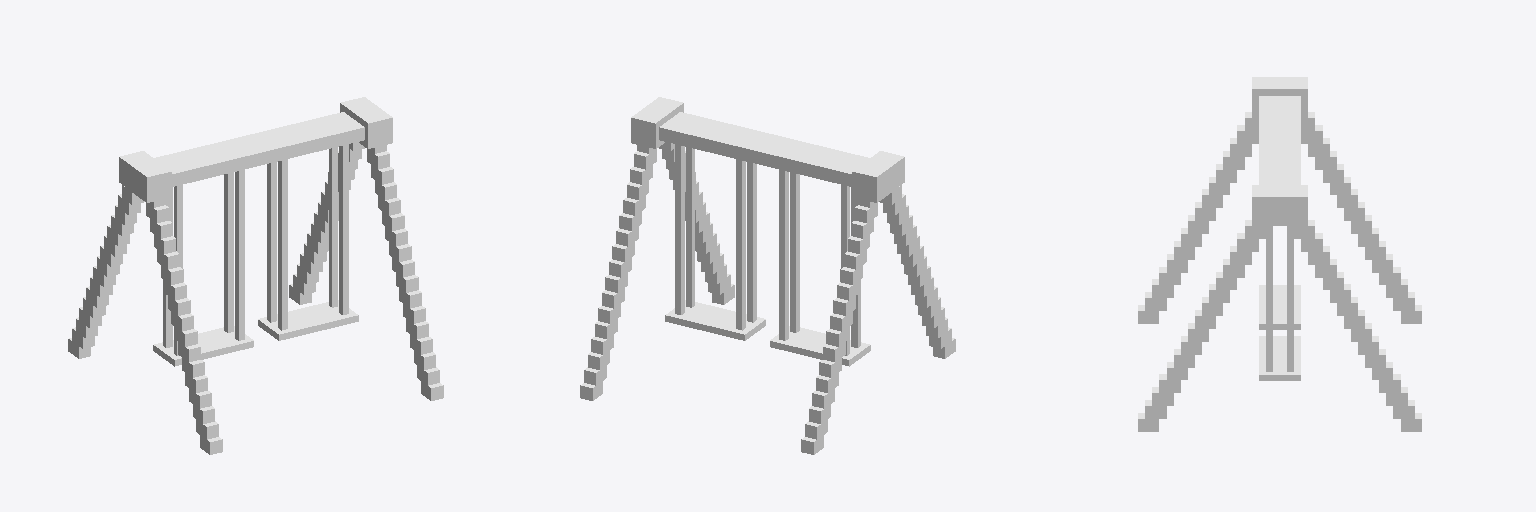
Rendered from ブランコ.obj.
3 views of the same model, side by side, from view 1: azimuth 30°, elevation 25°; view 2: azimuth 150°, elevation 25°; view 3: azimuth 270°, elevation 25° (orthographic).
Parts seen in each view (by area): view 1: object 1; view 2: object 1; view 3: object 1.
Part boxes in pixels (bbox=[...]): object 1: bbox=[68, 97, 443, 454]; object 1: bbox=[580, 97, 955, 454]; object 1: bbox=[1138, 77, 1421, 431].
Bounding box in the file's own units: 4 × 3.7 × 4.